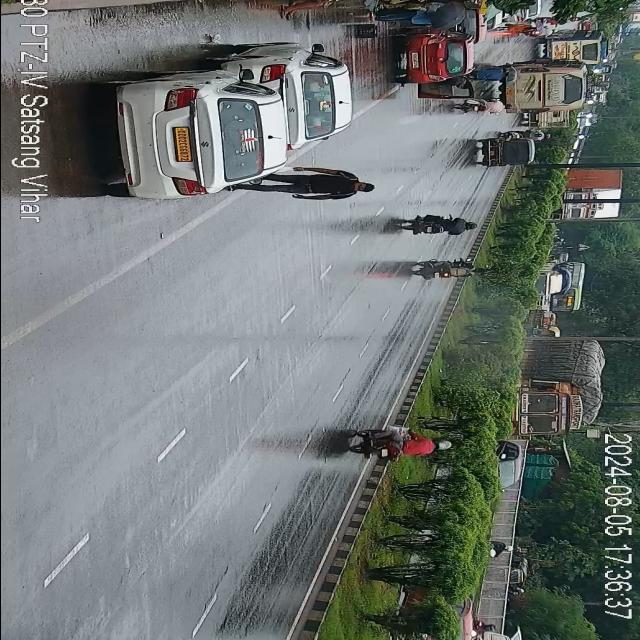2-wheelers: (342, 423, 444, 474), (396, 210, 474, 238), (412, 256, 481, 284), (454, 101, 508, 116)
auto: (509, 62, 585, 114), (462, 134, 530, 174), (536, 35, 610, 65)
bus: (547, 262, 591, 310)
car: (108, 67, 284, 199), (238, 46, 354, 146), (400, 29, 468, 85), (493, 441, 521, 504)
pedestrian: (227, 168, 375, 198), (376, 0, 486, 32), (279, 0, 361, 20), (462, 68, 512, 86)
truck: (510, 338, 598, 438), (552, 165, 626, 221), (530, 258, 568, 292)
